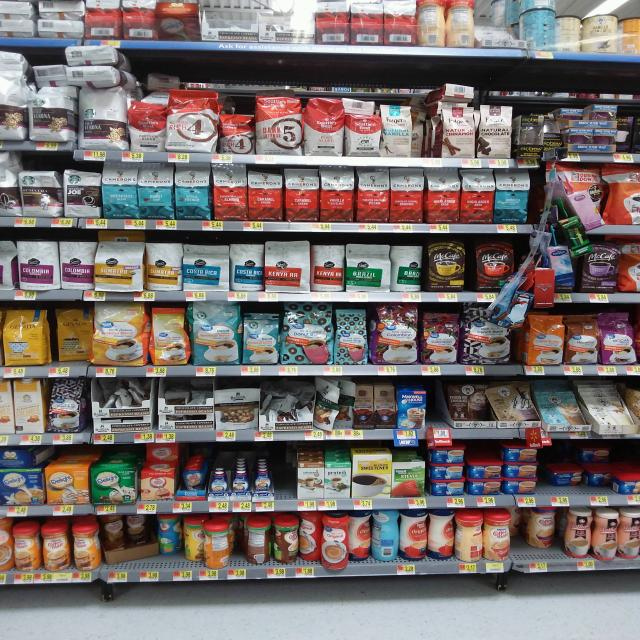empty: (425, 375, 452, 441), (272, 447, 300, 499)
